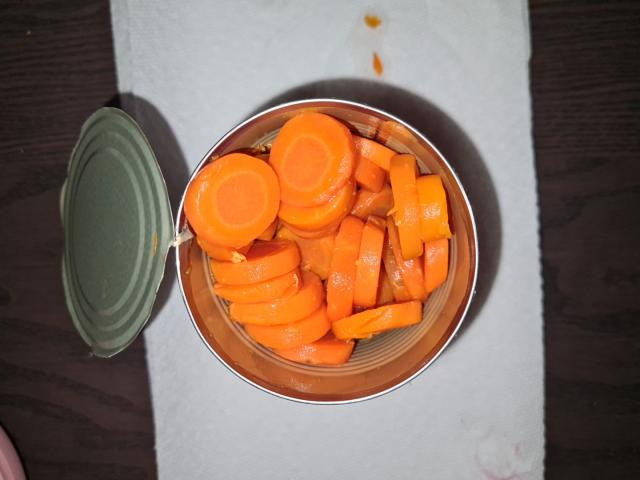kichen waste: (186, 113, 452, 365)
